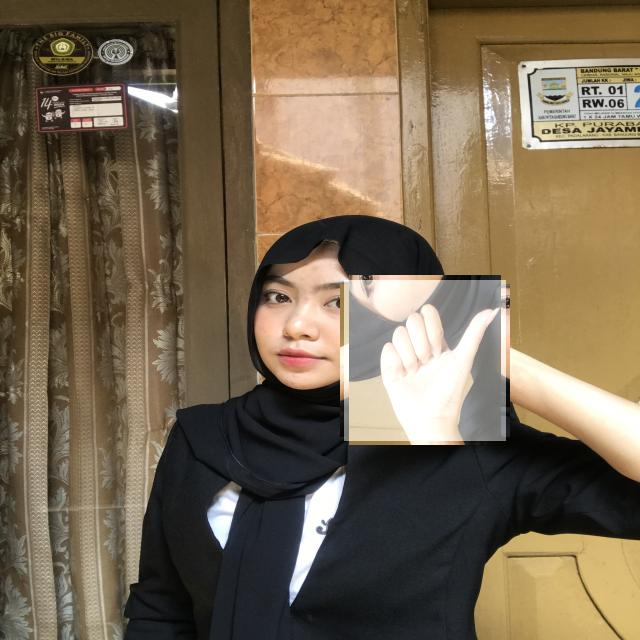sedih: (344, 280, 506, 441)
